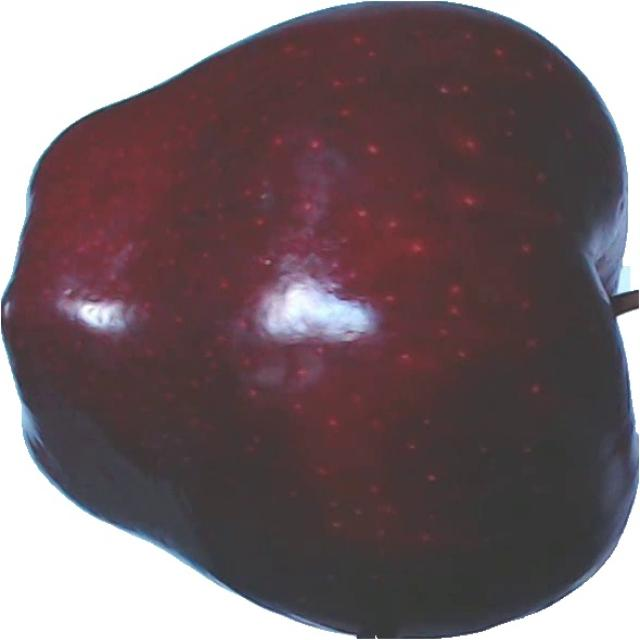Scartlet Spur Elma: (1, 0, 638, 637)
